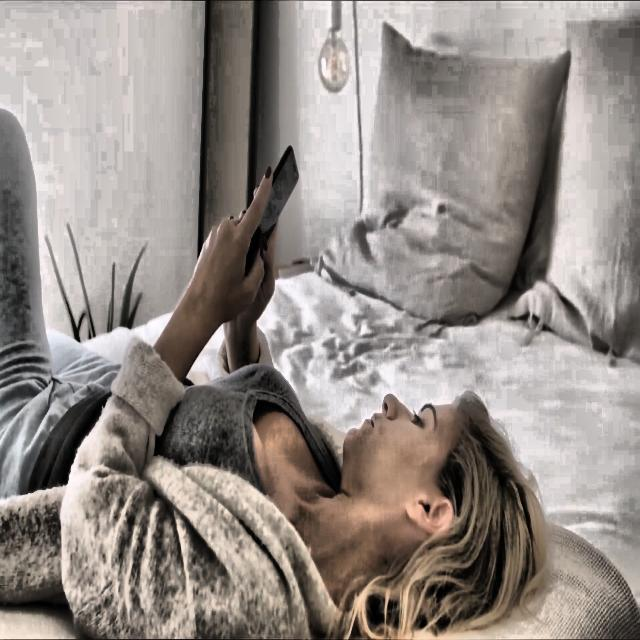Phone: (242, 142, 300, 282)
